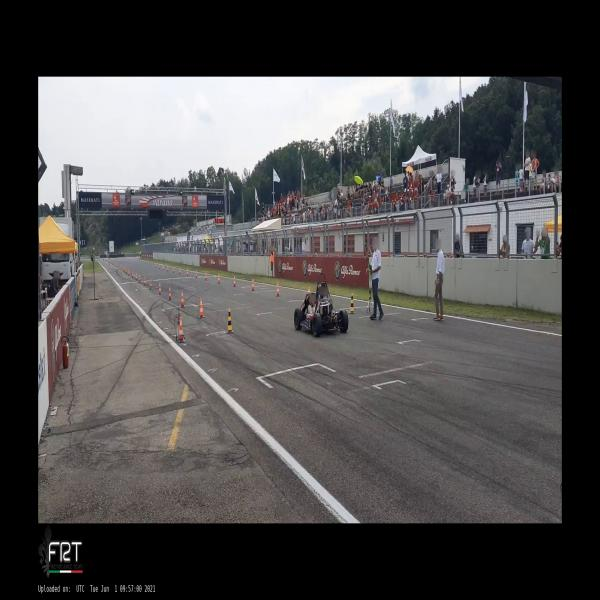large_orange_cone: (178, 317, 185, 343), (199, 298, 205, 318), (275, 283, 281, 296), (181, 291, 185, 307), (168, 287, 172, 300), (251, 278, 255, 291), (158, 283, 162, 295), (233, 275, 237, 287)
unknown_cone: (226, 309, 234, 333), (348, 293, 356, 314)
